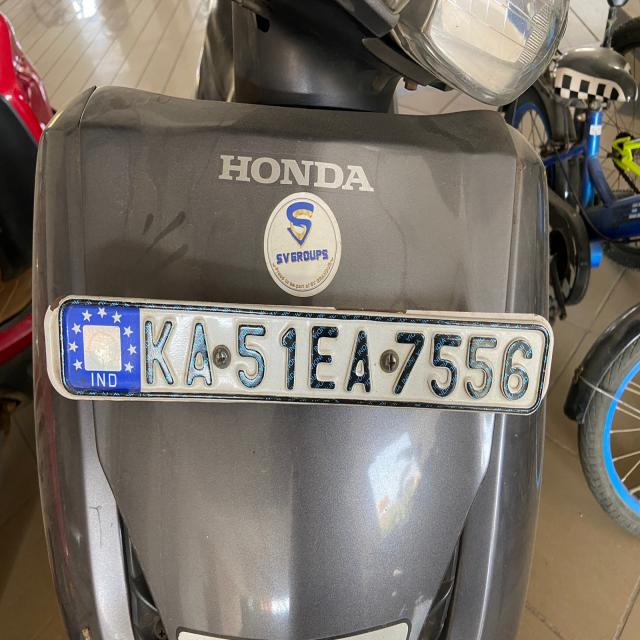1: (274, 319, 302, 395)
5: (233, 319, 268, 396), (465, 330, 496, 410), (430, 330, 462, 399)
6: (502, 328, 534, 404)
7: (387, 323, 430, 397)
A: (180, 314, 217, 394), (342, 321, 375, 404)
E: (306, 322, 342, 397)
K: (138, 307, 178, 393)
